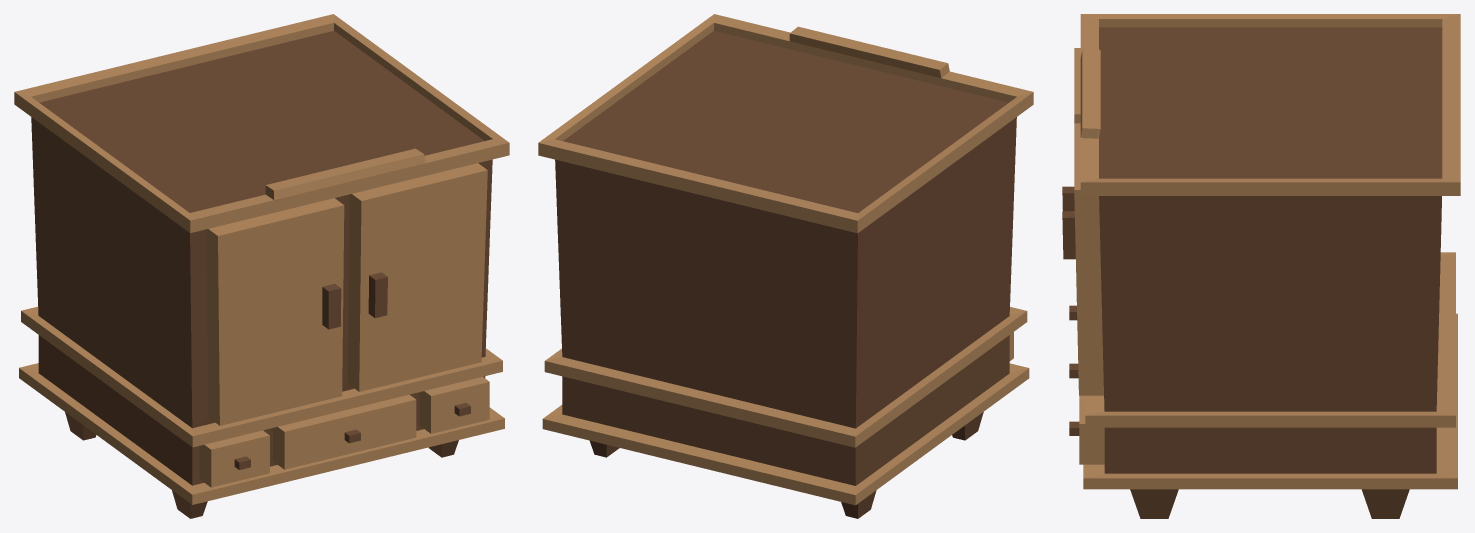
The model's file is qt-closet2.glb.
3 renders of one model, left to right at view 1: azimuth 30°, elevation 25°; view 2: azimuth 150°, elevation 25°; view 3: azimuth 270°, elevation 25°, orthographic. The views are drawn at different scales.
Parts seen in each view (by area): view 1: Closet2_Cube.003; view 2: Closet2_Cube.003; view 3: Closet2_Cube.003.
Boxes of the visible parts, bbox=[...] form: Closet2_Cube.003: bbox=[14, 14, 509, 518]; Closet2_Cube.003: bbox=[538, 14, 1033, 518]; Closet2_Cube.003: bbox=[1062, 14, 1460, 518].
Bounding box in the file's own units: 1 × 1 × 1.
